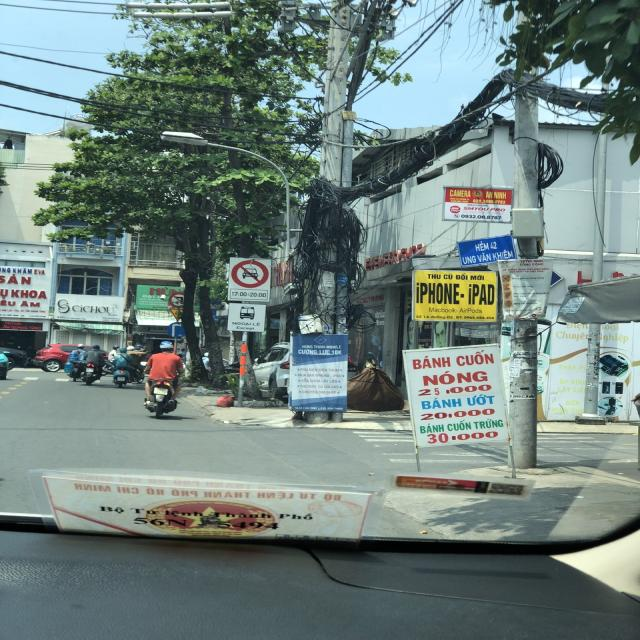Bien bao cam xe oto: (228, 256, 274, 292)
